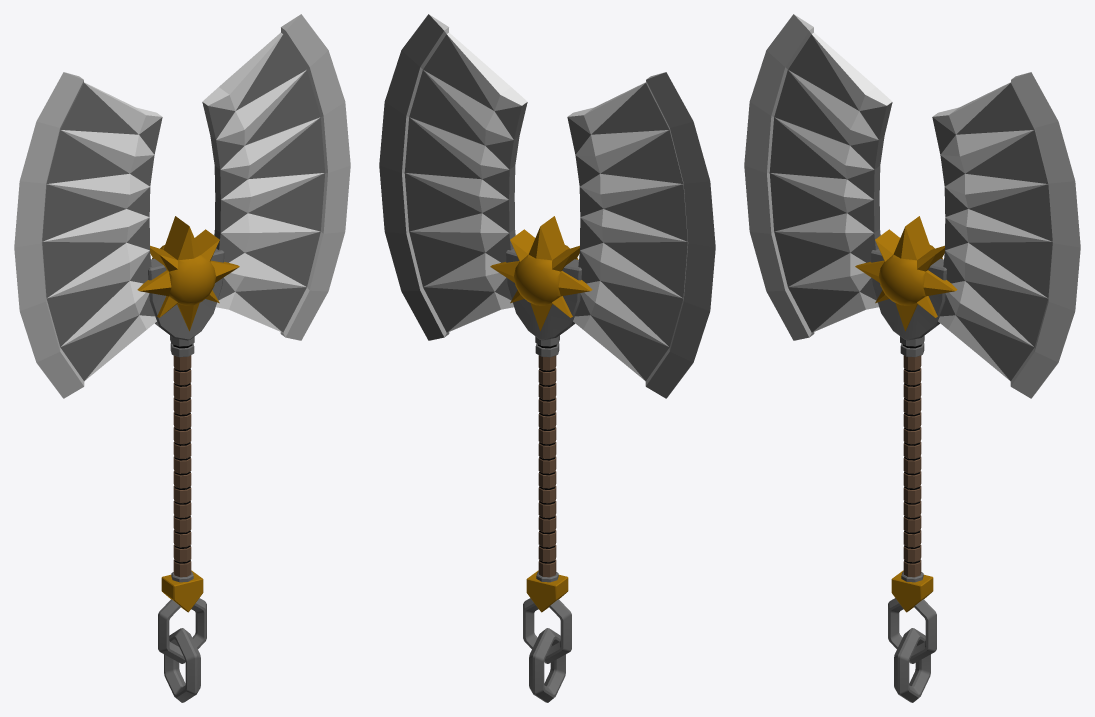
File: Axe_3.fbx
The picture shows the model from 3 angles, left to right: view 1: azimuth 30°, elevation 25°; view 2: azimuth 150°, elevation 25°; view 3: azimuth 330°, elevation 25°; orthographic projection.
Parts seen in each view (by area): view 1: pSphere7, pSphere8, pSphere6, pCylinder11, pCube34, pTorus2, pTorus1, pCube33; view 2: pSphere7, pSphere8, pSphere6, pCylinder11, pCube34, pTorus2, pTorus1, pCube33; view 3: pSphere8, pSphere7, pSphere6, pCylinder11, pCube34, pTorus2, pTorus1, pCube33.
Part boxes in pixels (<box>): pSphere7: <box>14,72,162,398</box>; pSphere8: <box>202,14,350,340</box>; pSphere6: <box>137,216,239,331</box>; pCylinder11: <box>170,335,194,582</box>; pCube34: <box>148,248,224,340</box>; pTorus2: <box>164,628,200,702</box>; pTorus1: <box>158,598,206,663</box>; pCube33: <box>161,570,203,612</box>; pSphere7: <box>567,72,715,398</box>; pSphere8: <box>379,14,527,340</box>; pSphere6: <box>490,216,592,330</box>; pCylinder11: <box>535,335,559,582</box>; pCube34: <box>505,248,581,340</box>; pTorus2: <box>529,628,565,702</box>; pTorus1: <box>523,598,571,663</box>; pCube33: <box>526,570,568,612</box>; pSphere8: <box>932,72,1080,398</box>; pSphere7: <box>744,14,892,340</box>; pSphere6: <box>855,216,957,331</box>; pCylinder11: <box>900,336,924,582</box>; pCube34: <box>870,248,946,340</box>; pTorus2: <box>894,628,930,702</box>; pTorus1: <box>888,598,936,663</box>; pCube33: <box>891,570,933,612</box>.
Size of the model in its own units: 3.02 by 5.65 by 0.5011.
